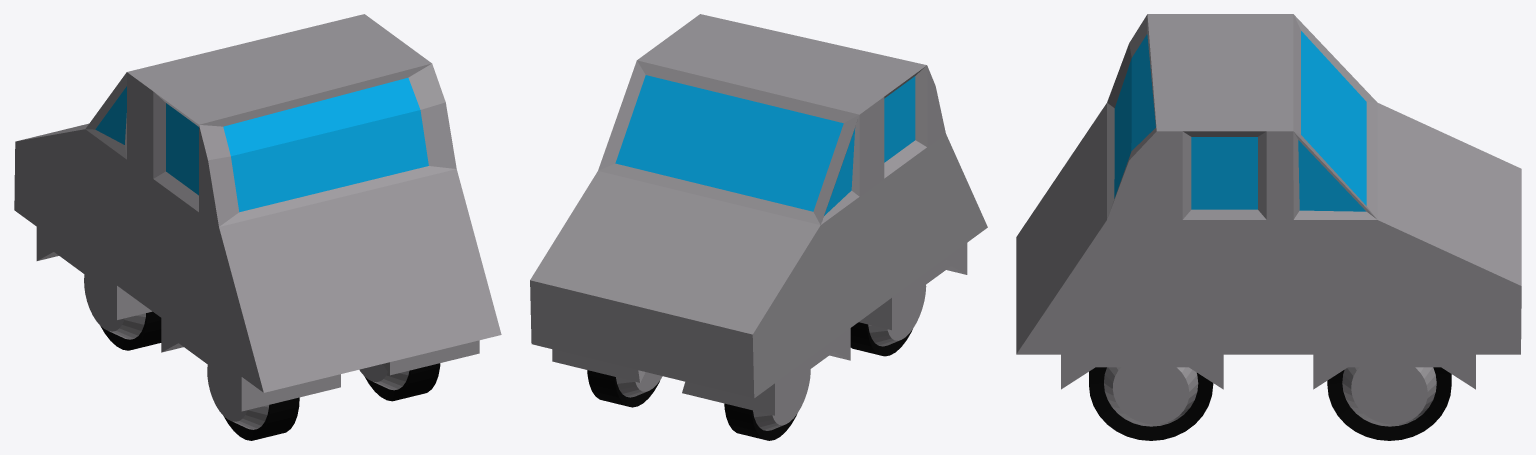
Rendered from MiniCar5.fbx.
The picture shows the model from 3 angles, left to right: view 1: azimuth 30°, elevation 25°; view 2: azimuth 150°, elevation 25°; view 3: azimuth 270°, elevation 25°; orthographic projection. The views are drawn at different scales.
Visible parts, largest first — view 1: Cube; view 2: Cube; view 3: Cube.
Part boxes in pixels (left/top/right/bottom): Cube: left=14, top=14, right=501, bottom=440; Cube: left=530, top=14, right=987, bottom=440; Cube: left=1016, top=14, right=1521, bottom=440.
Size of the model in its own units: 318 by 405 by 576.
